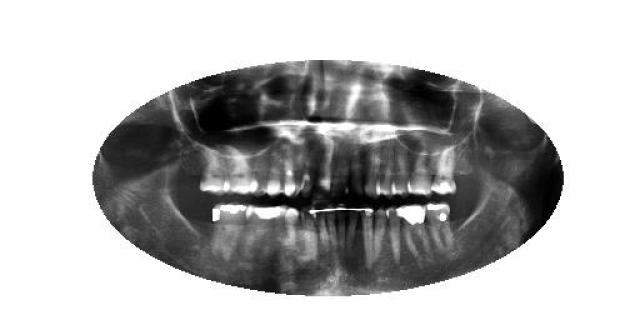Fillings: (212, 202, 248, 262), (398, 204, 432, 264), (244, 205, 275, 260), (432, 145, 458, 195), (427, 200, 452, 249), (275, 204, 287, 250)
